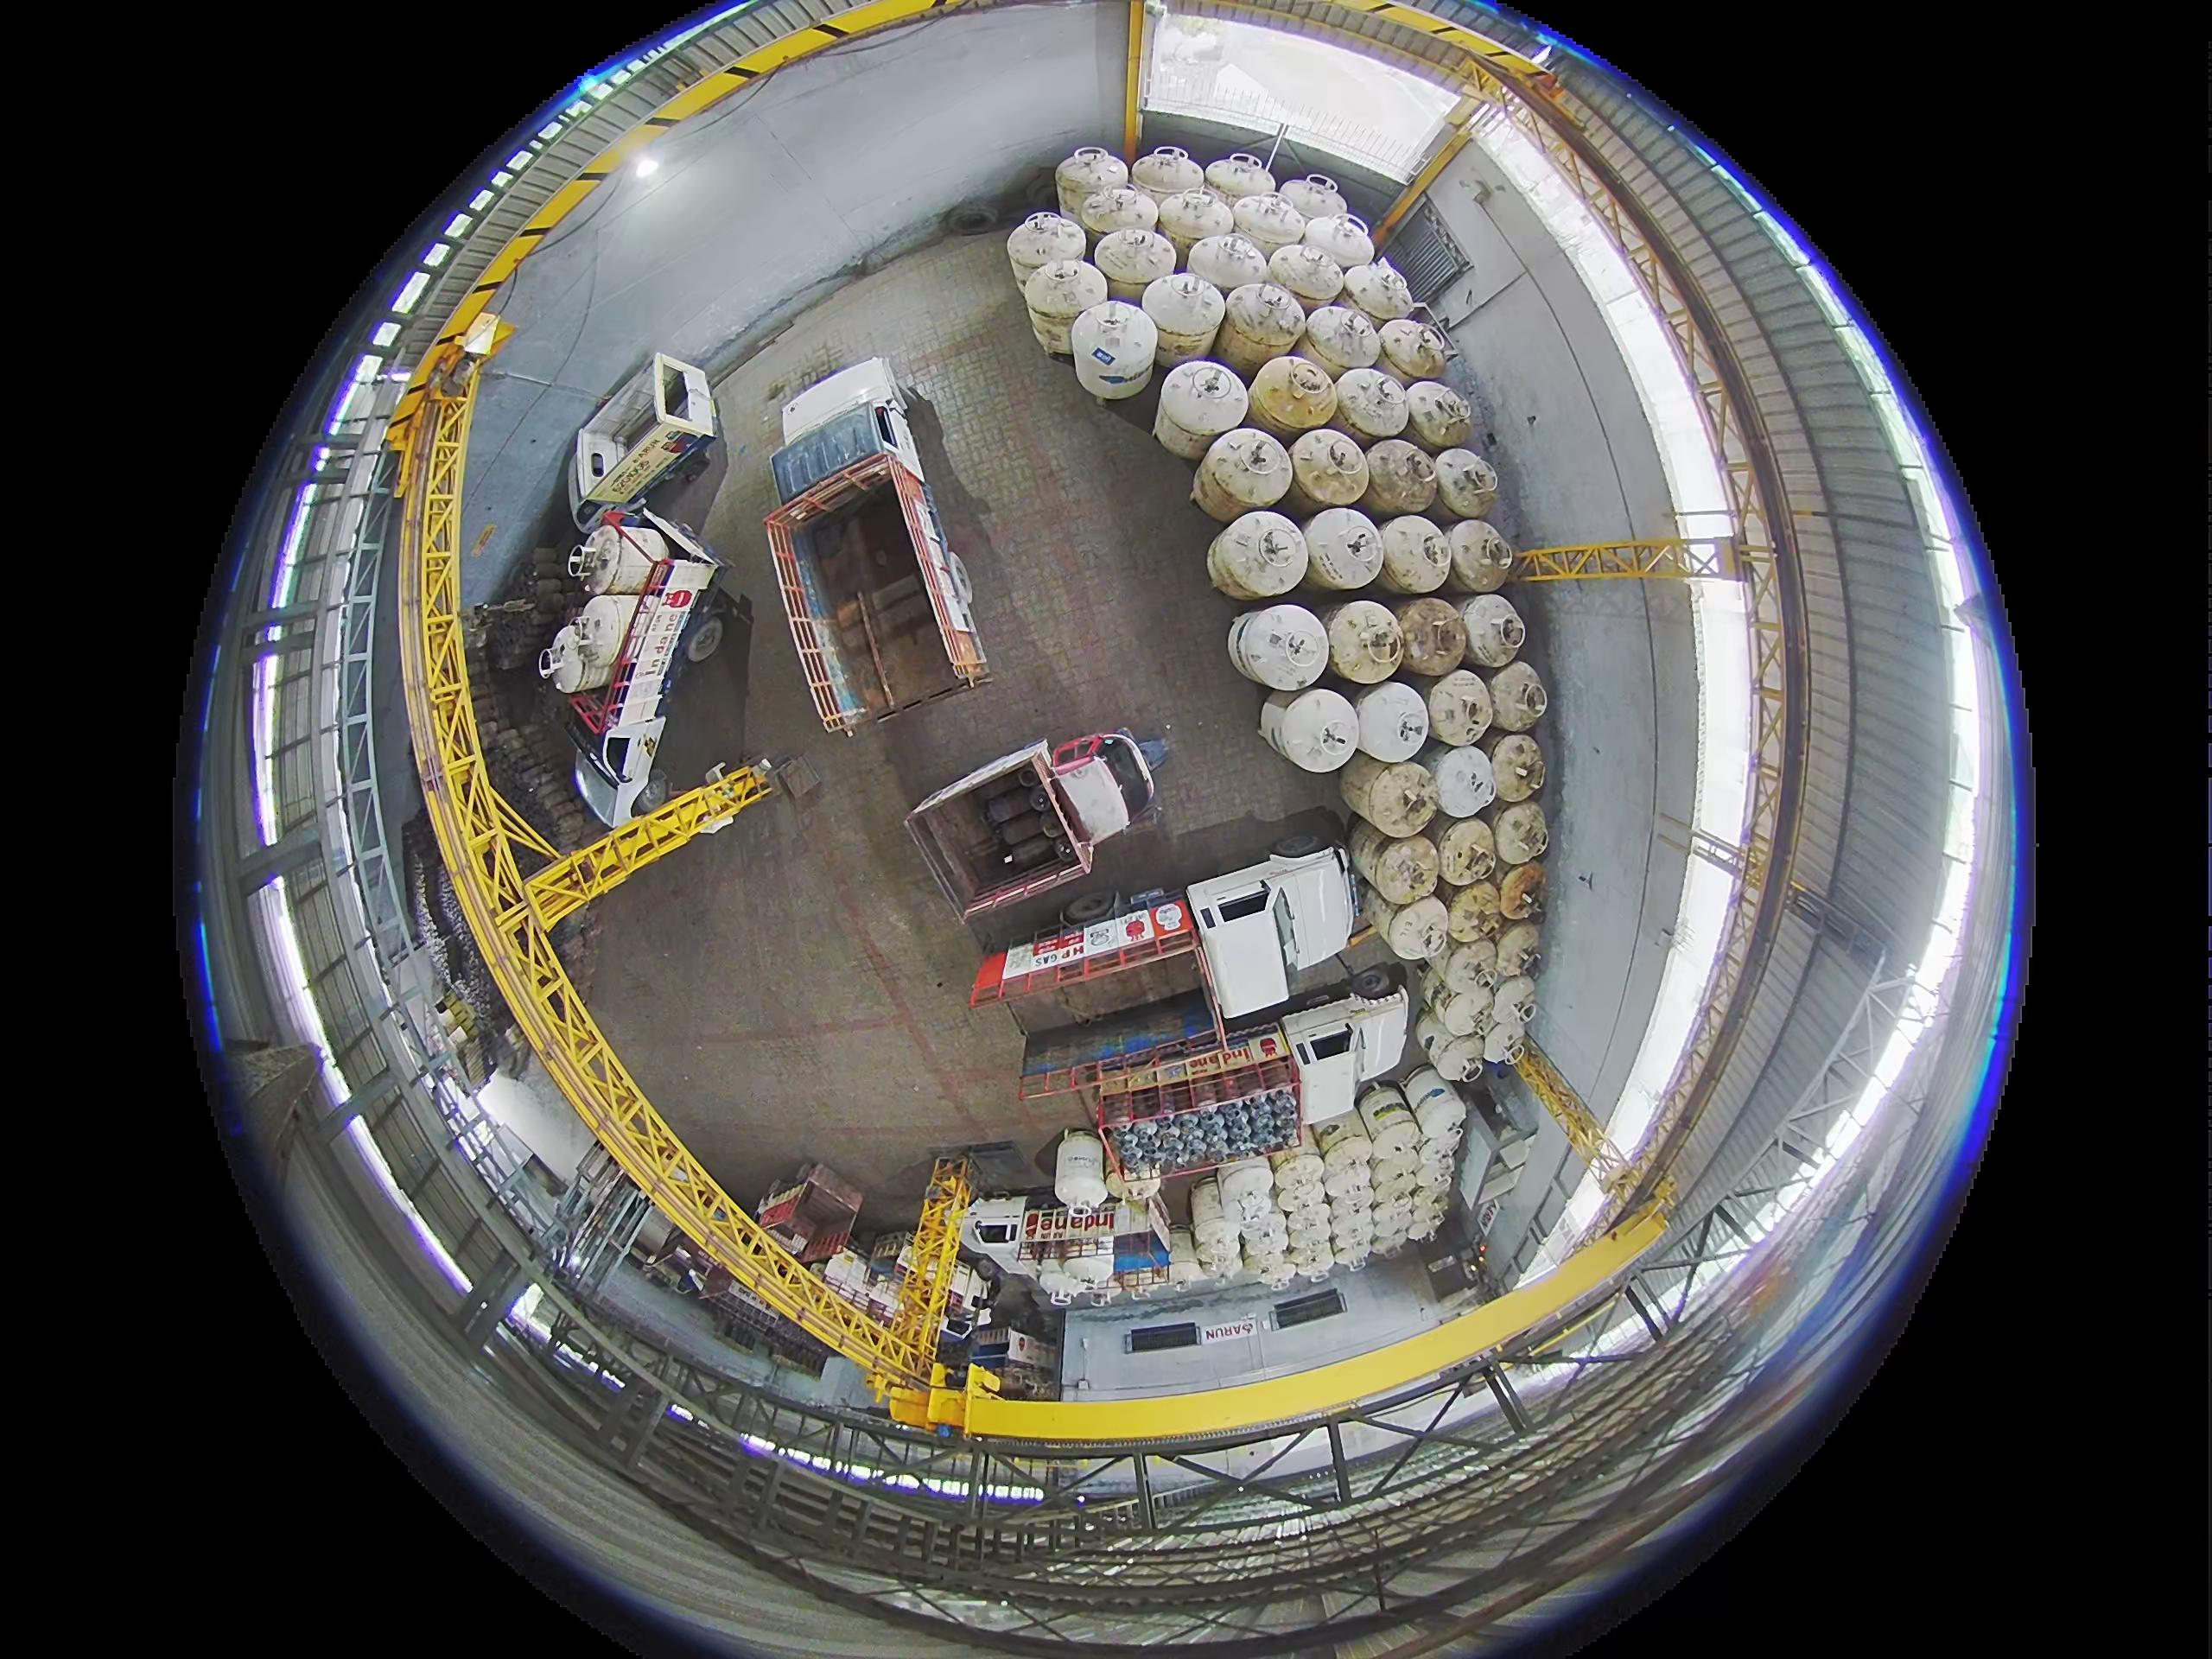cylinder: (1153, 359, 1249, 458), (1228, 601, 1329, 688), (1207, 511, 1310, 596), (1021, 260, 1106, 361), (1139, 272, 1226, 368), (1069, 301, 1153, 397), (1217, 281, 1305, 371), (1251, 354, 1339, 437), (1275, 687, 1364, 770), (1301, 507, 1386, 591), (1287, 429, 1371, 511), (1324, 599, 1407, 681), (1355, 681, 1433, 763), (1360, 760, 1440, 838), (1362, 437, 1440, 516), (1331, 366, 1411, 443), (1007, 211, 1085, 288), (1190, 446, 1268, 523), (1054, 148, 1127, 228), (1186, 228, 1270, 298), (1379, 514, 1453, 592), (1094, 225, 1174, 296), (1425, 667, 1496, 748), (1303, 303, 1381, 375), (1155, 190, 1233, 261), (1393, 599, 1465, 678), (1082, 183, 1158, 253), (1402, 382, 1474, 453), (1458, 594, 1527, 667), (1369, 835, 1442, 904), (1266, 240, 1343, 307), (1444, 518, 1514, 589), (1432, 448, 1501, 519), (1230, 192, 1306, 256), (1432, 746, 1500, 817), (1343, 260, 1414, 326), (1435, 814, 1500, 887), (1303, 211, 1376, 274), (1378, 317, 1447, 382), (1484, 660, 1548, 730), (1381, 894, 1451, 958), (1130, 146, 1204, 207), (1489, 798, 1550, 866), (1487, 732, 1547, 800), (1346, 823, 1407, 887), (1204, 152, 1275, 206), (1446, 880, 1505, 945), (1217, 1157, 1277, 1222), (1278, 173, 1348, 225), (1496, 861, 1548, 922), (1493, 918, 1543, 979), (1487, 976, 1538, 1033), (1359, 882, 1402, 943), (1193, 1220, 1242, 1274), (1190, 1178, 1231, 1236), (1325, 1195, 1372, 1244), (1238, 1218, 1287, 1263), (1259, 695, 1294, 756), (1369, 1197, 1414, 1243), (1404, 1187, 1444, 1232), (1287, 1234, 1334, 1272), (1334, 1223, 1372, 1265), (1254, 1255, 1298, 1290), (1165, 1232, 1200, 1272), (1169, 1255, 1209, 1286)
truck: (738, 352, 1019, 744), (1040, 840, 1364, 1093), (538, 509, 744, 824), (894, 732, 1120, 925), (554, 383, 735, 551), (970, 890, 1165, 1025), (770, 359, 927, 514), (949, 1171, 1111, 1283), (570, 427, 631, 530), (961, 1195, 1031, 1256)
